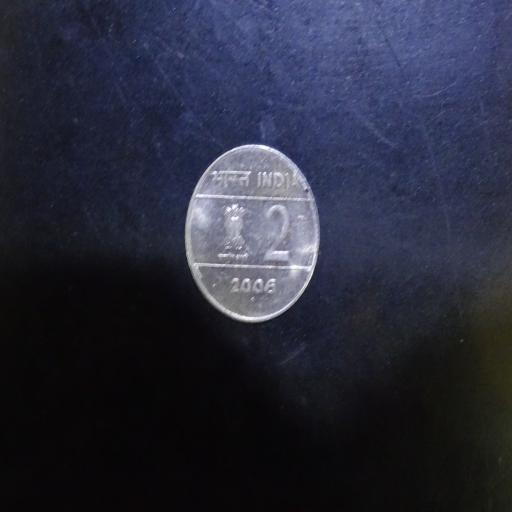rupee2: (179, 140, 323, 327)
